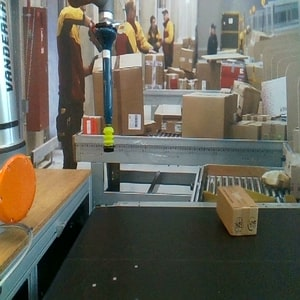box: (215, 185, 260, 237)
